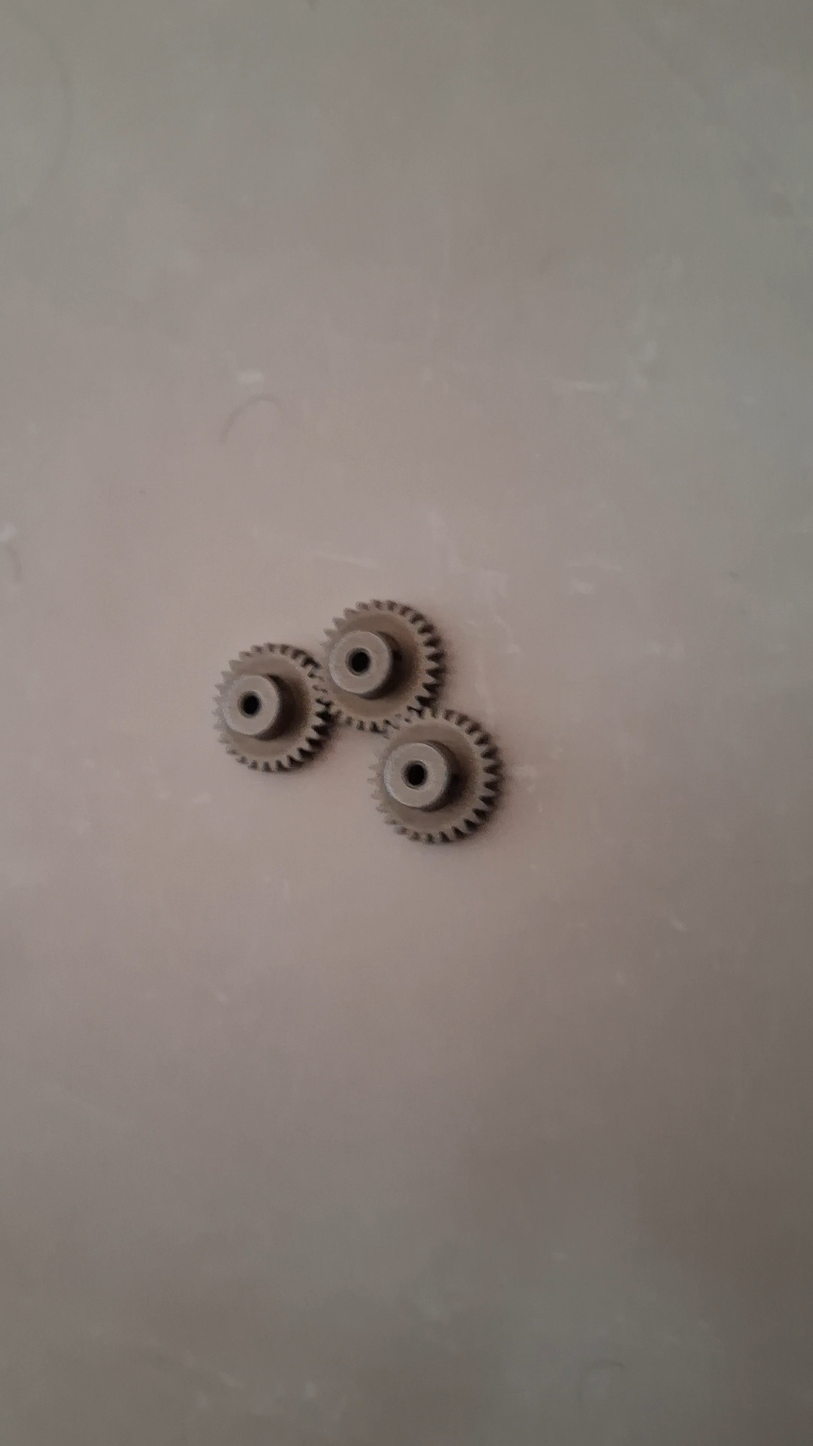spur gear: (374, 709, 500, 843), (325, 600, 443, 731), (215, 644, 330, 772)
